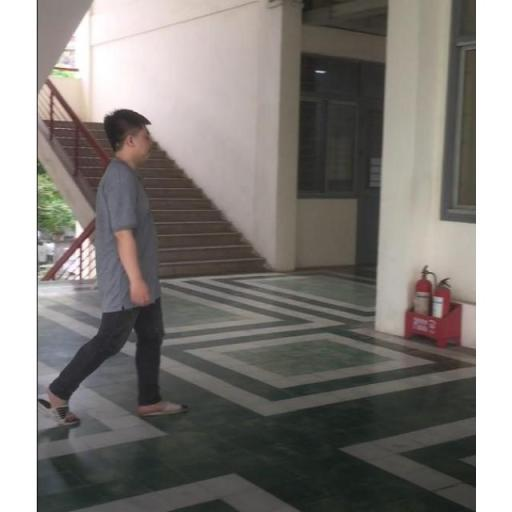Running: (38, 98, 188, 432)
